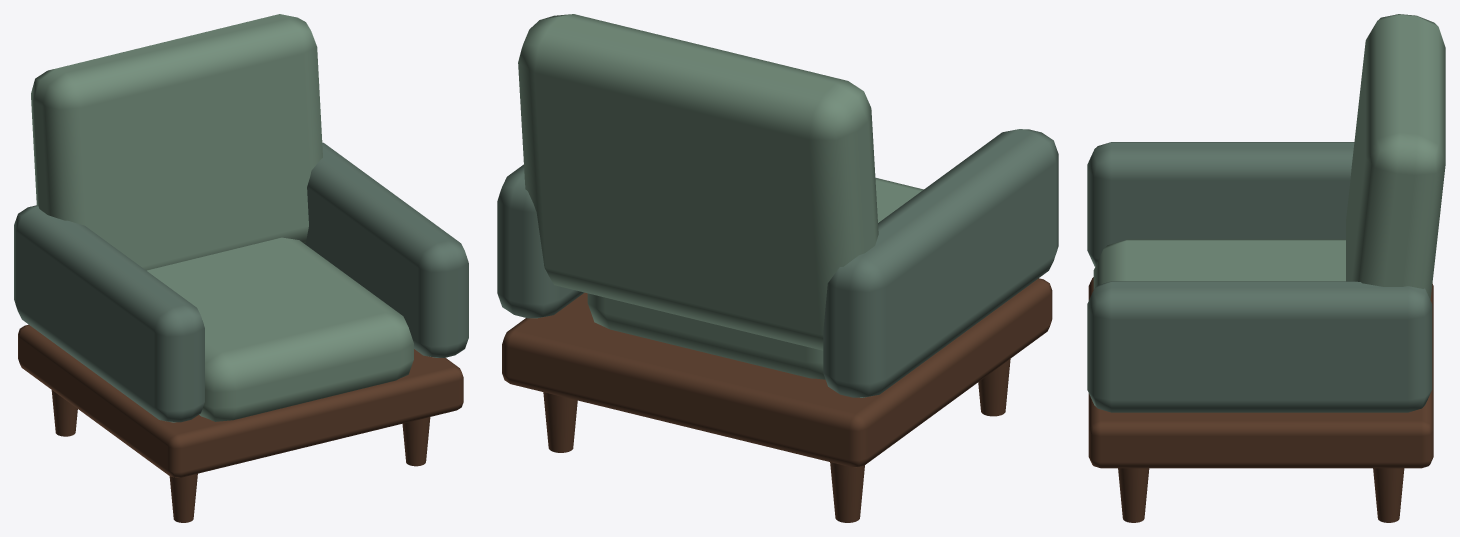
Rendered from luna-armchair.v1.web.glb.
3 renders of one model, left to right at view 1: azimuth 30°, elevation 25°; view 2: azimuth 150°, elevation 25°; view 3: azimuth 270°, elevation 25°, orthographic. The views are drawn at different scales.
Size of the model in its own units: 0.828 by 0.8955 by 0.7584.
